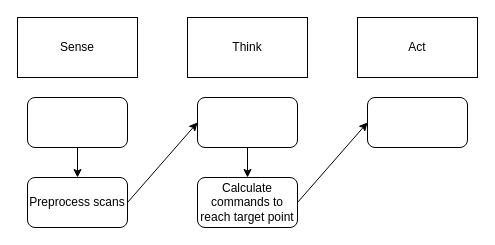
The diagram is 495 pixels wide and 245 high, and some of its shapes have lost their labels. The shapes that lost their labels are listed below. From the top down, each one's box as (x1, y1, x2, y2) in pixels, then its label:
(26, 96, 128, 148): Read LiDAR packets
(196, 96, 298, 148): Plan target point to drive to
(366, 96, 468, 148): Execuate commands on actuators
